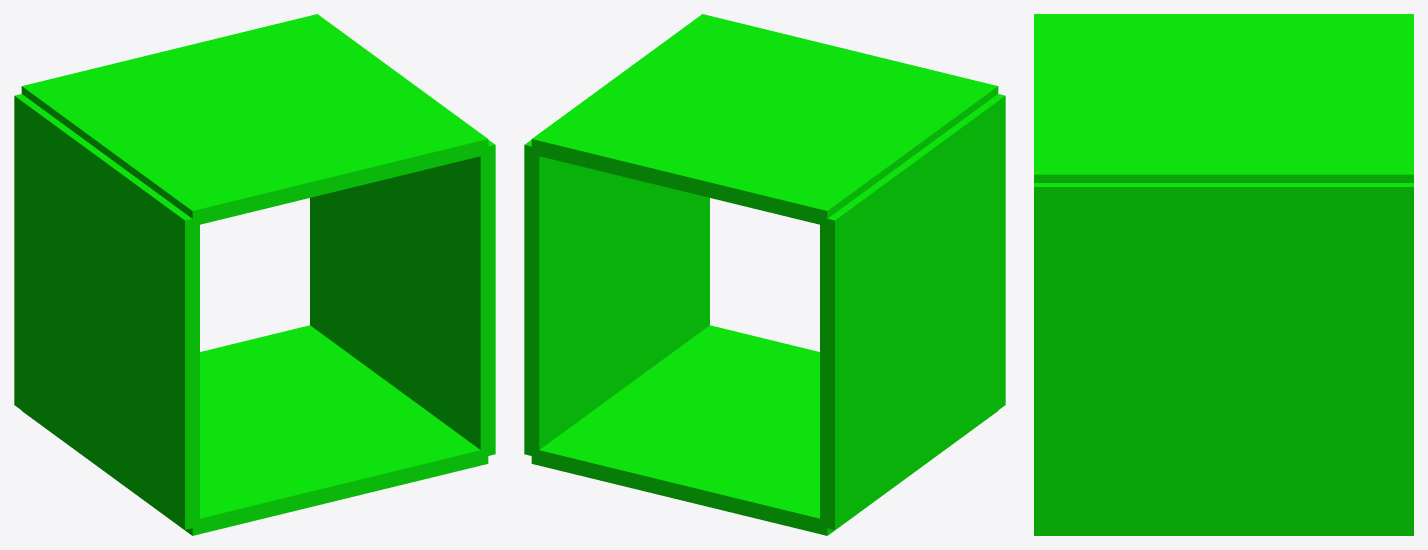
The picture shows the model from 3 angles, left to right: view 1: azimuth 30°, elevation 25°; view 2: azimuth 150°, elevation 25°; view 3: azimuth 270°, elevation 25°; orthographic projection. The views are drawn at different scales.
Visible parts, largest first — view 1: 立方体.001, Cube.001, 立方体, Cube; view 2: 立方体.001, Cube.001, 立方体, Cube; view 3: 立方体, Cube.001, Cube.
Part boxes in pixels (x1=…): 立方体.001: x1=14, y1=94, x2=199, y2=529; Cube.001: x1=21, y1=14, x2=488, y2=226; 立方体: x1=310, y1=140, x2=495, y2=457; Cube: x1=22, y1=325, x2=488, y2=535; 立方体.001: x1=820, y1=94, x2=1005, y2=529; Cube.001: x1=531, y1=14, x2=998, y2=225; 立方体: x1=524, y1=140, x2=709, y2=455; Cube: x1=531, y1=325, x2=997, y2=535; 立方体: x1=1034, y1=183, x2=1413, y2=531; Cube.001: x1=1034, y1=14, x2=1413, y2=182; Cube: x1=1034, y1=531, x2=1413, y2=535.
Size of the model in its own units: 42 by 42 by 40.
